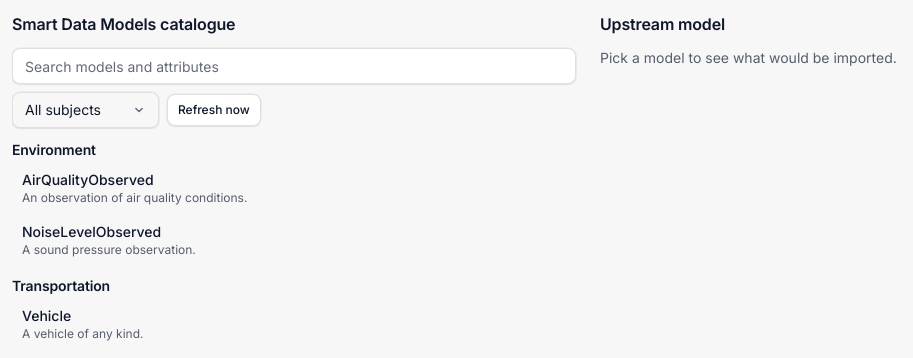
it: Smart Data Models import wizard › searches by model name, description and attribute name
Expected: the button "AirQualityObserved An observation of air quality conditions." is shown, [12, 164, 576, 212]
Type "pm25" into the search field labelled "Search models and attributes" at [294, 66], box [12, 48, 576, 84]
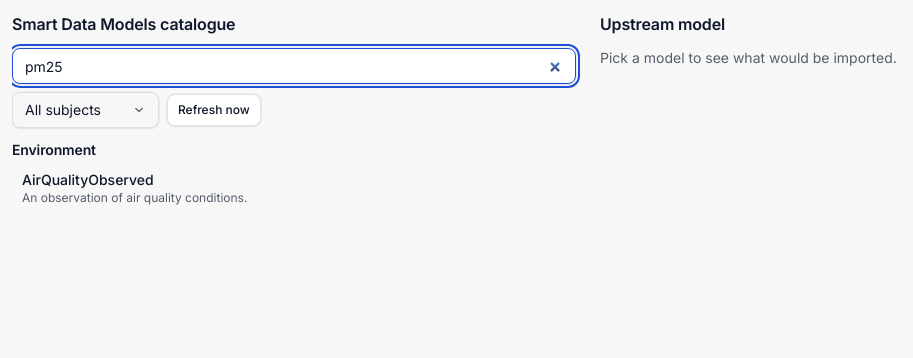
Expected: the button "AirQualityObserved An observation of air quality conditions." is shown, [12, 164, 576, 212]
Expected: the button "Vehicle" is gone
